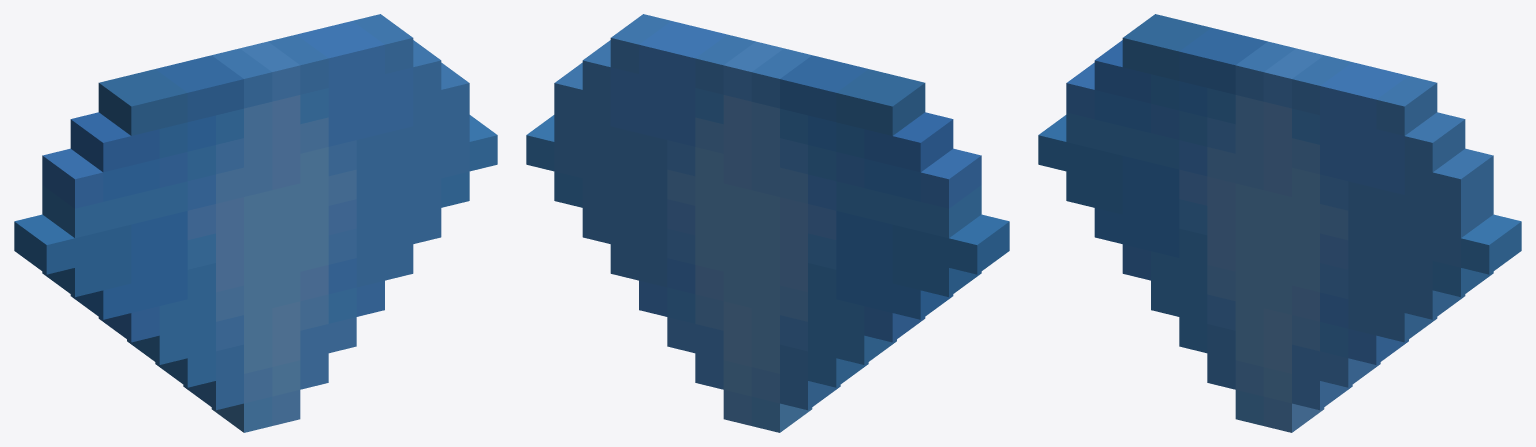
Rendered from gem-blue.glb.
3 views of the same model, side by side, from view 1: azimuth 30°, elevation 25°; view 2: azimuth 150°, elevation 25°; view 3: azimuth 330°, elevation 25° (orthographic).
Parts seen in each view (by area): view 1: prop; view 2: prop; view 3: prop.
Boxes of the visible parts, bbox=[...] form: prop: bbox=[14, 14, 497, 432]; prop: bbox=[526, 14, 1009, 432]; prop: bbox=[1038, 14, 1521, 432].
Bounding box in the file's own units: 16 × 12 × 2.
